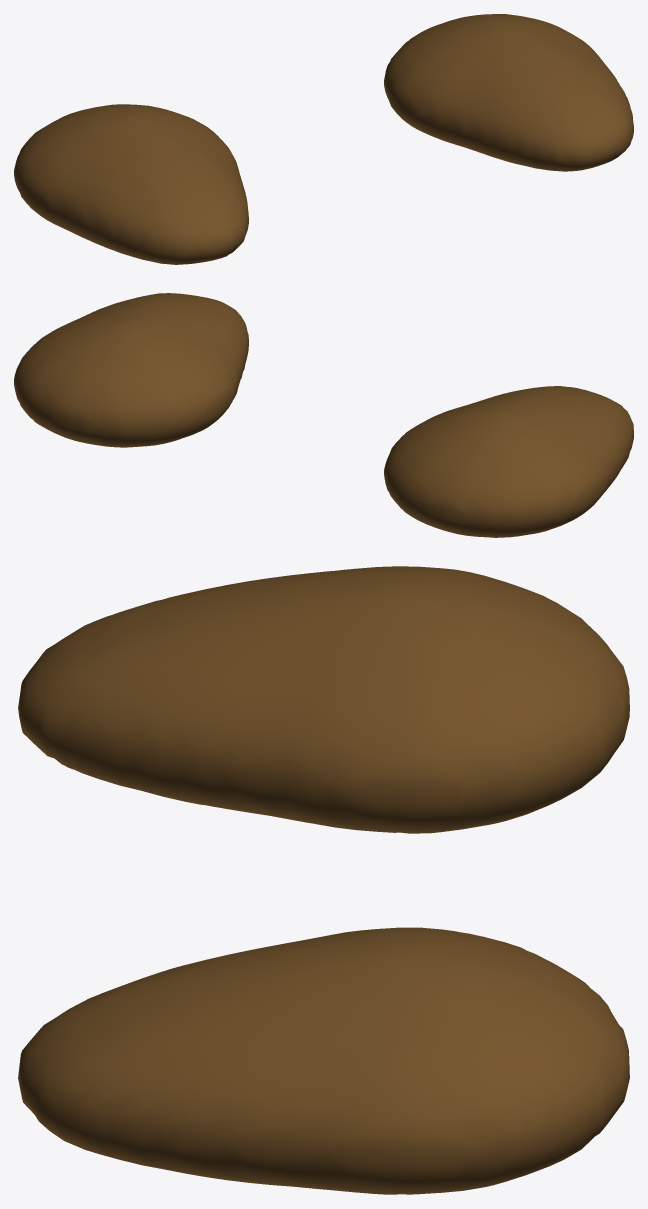
File: Shoes1.fbx
3 views of the same model, one above another, from view 1: azimuth 30°, elevation 25°; view 2: azimuth 150°, elevation 25°; view 3: azimuth 270°, elevation 25° (orthographic). The views are drawn at different scales.
Visible parts, largest first — view 1: Cylinder.039, Cylinder.049; view 2: Cylinder.049, Cylinder.039; view 3: Cylinder.039, Cylinder.049.
Boxes of the visible parts, box(x1,y1,x2,y2) form: Cylinder.039: box(384, 14, 633, 171); Cylinder.049: box(14, 104, 248, 264); Cylinder.049: box(384, 386, 633, 537); Cylinder.039: box(14, 293, 248, 447); Cylinder.039: box(18, 927, 629, 1194); Cylinder.049: box(18, 566, 629, 833).
Size of the model in its own units: 141 by 66.3 by 22.51.
